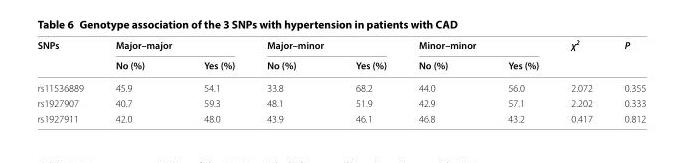table: (36, 37, 645, 123)
table column: (173, 37, 250, 123), (477, 37, 554, 123), (325, 37, 401, 123), (401, 37, 477, 123), (98, 37, 173, 123), (250, 37, 325, 123), (36, 37, 98, 123), (554, 37, 607, 123), (607, 37, 645, 123)
table column header: (36, 37, 645, 76)
table row: (36, 54, 645, 76), (36, 76, 645, 95), (36, 37, 645, 54), (36, 95, 645, 110), (36, 110, 645, 123)
table spanning cell: (401, 37, 554, 54), (98, 37, 250, 54), (250, 37, 401, 54), (36, 37, 98, 76), (554, 37, 607, 76), (607, 37, 645, 76)
